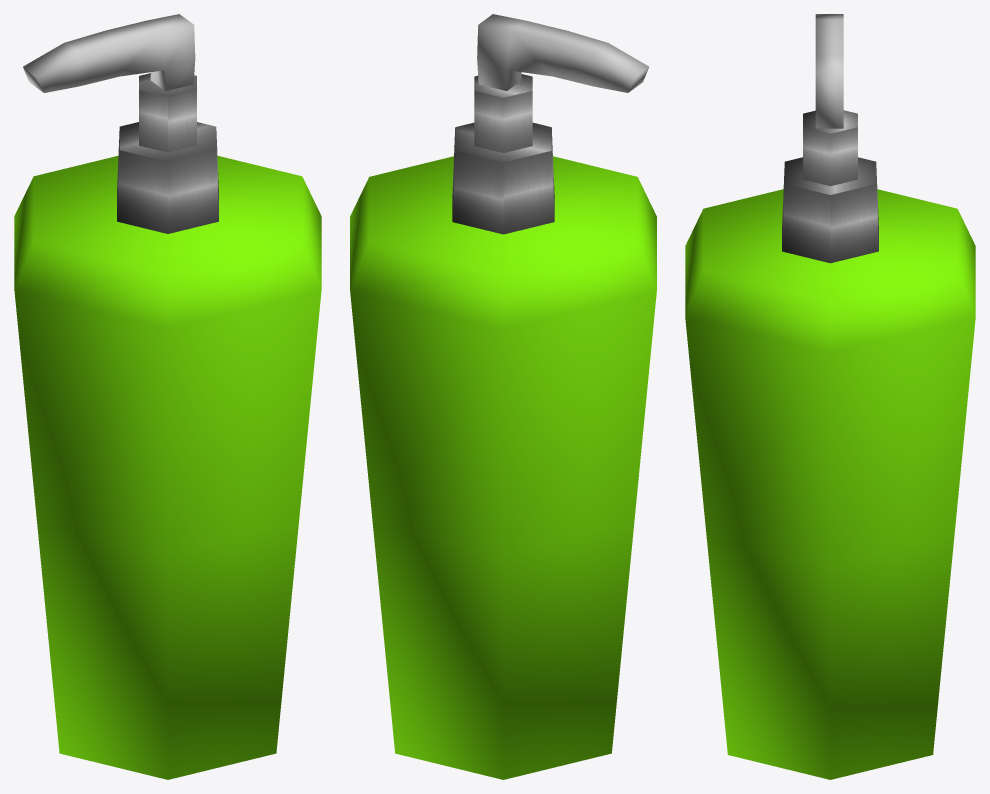
Rendered from Soap_Dispenser_G.FBX.
3 views of the same model, side by side, from view 1: azimuth 30°, elevation 25°; view 2: azimuth 150°, elevation 25°; view 3: azimuth 270°, elevation 25° (orthographic). The views are drawn at different scales.
Visible parts, largest first — view 1: Soap_Dispenser; view 2: Soap_Dispenser; view 3: Soap_Dispenser.
Boxes of the visible parts, box(x1,y1,x2,y2) form: Soap_Dispenser: box(14, 14, 321, 779); Soap_Dispenser: box(350, 14, 656, 779); Soap_Dispenser: box(685, 14, 975, 779).
Size of the model in its own units: 18.48 by 40.55 by 16.01.
